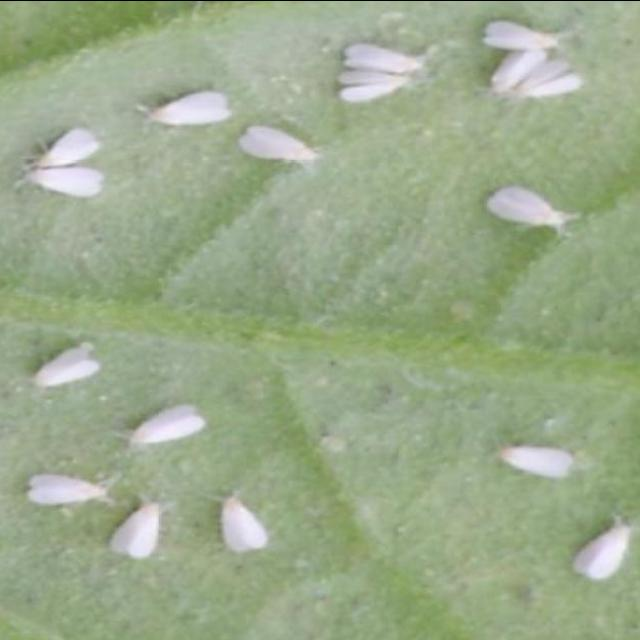Whitefly: (1, 327, 284, 583), (132, 74, 330, 182), (471, 6, 588, 108), (5, 112, 114, 216), (466, 169, 584, 250), (478, 420, 596, 489), (335, 34, 427, 108), (563, 511, 640, 592)
